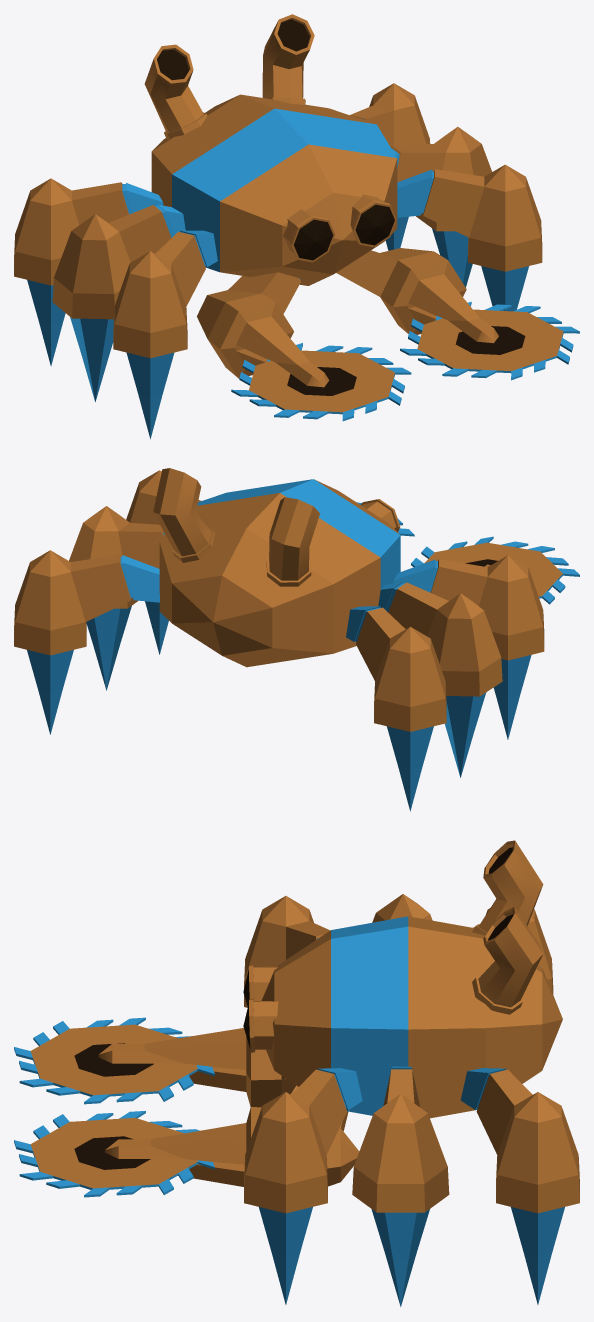
File: Buzzsaw.fbx
3 views of the same model, one above another, from view 1: azimuth 30°, elevation 25°; view 2: azimuth 150°, elevation 25°; view 3: azimuth 270°, elevation 25° (orthographic). The views are drawn at different scales.
Visible parts, largest first — view 1: Buzzsaw; view 2: Buzzsaw; view 3: Buzzsaw.
Boxes of the visible parts, x1,y1,x2,y2 form: Buzzsaw: (14,14,579,439); Buzzsaw: (14,468,579,811); Buzzsaw: (14,840,579,1306).
Size of the model in its own units: 98 by 63.8 by 98.83.
